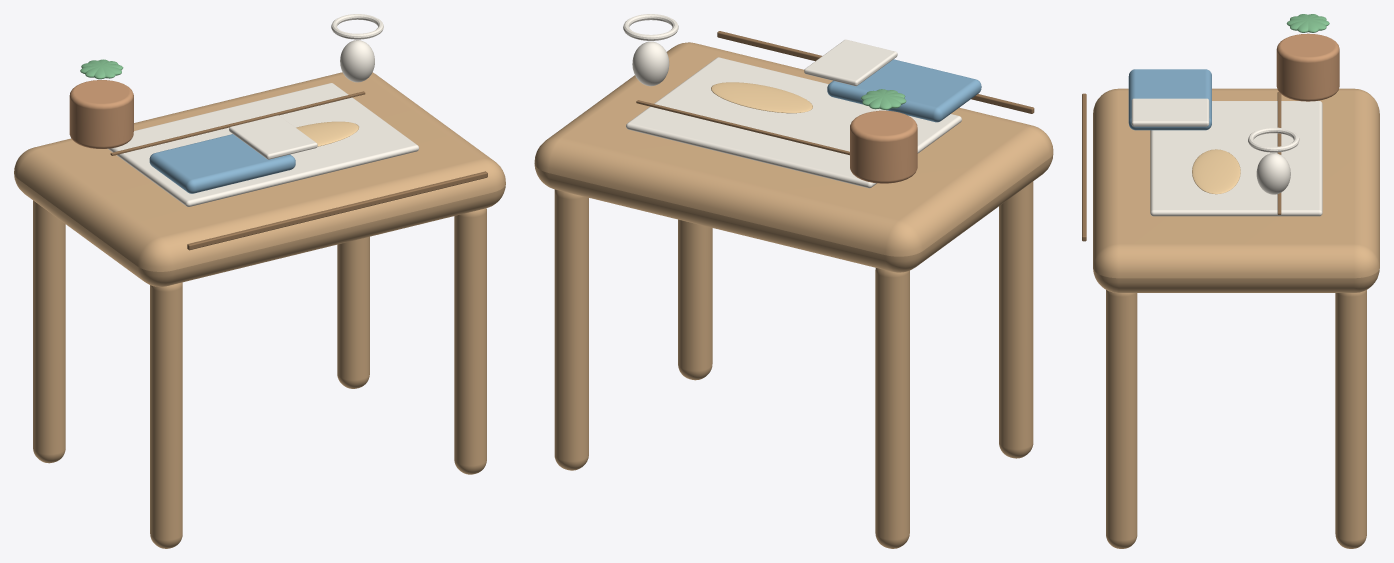
File: 星湾旅店圆角小桌_v373.fbx
3 views of the same model, side by side, from view 1: azimuth 30°, elevation 25°; view 2: azimuth 150°, elevation 25°; view 3: azimuth 270°, elevation 25° (orthographic). The views are drawn at different scales.
Parts seen in each view (by area): view 1: 旅店圆角小桌_v373_圆角木桌面, 旅店圆角小桌_v373_桌面奶油布垫, 旅店圆角小桌_v373_细圆木腿, 旅店圆角小桌_v373_细圆木腿.002, 旅店圆角小桌_v373_细圆木腿.001, 旅店圆角小桌_v373_海蓝旅行小册, 旅店圆角小桌_v373_细圆木腿.003, 旅店圆角小桌_v373_桌面陶土小花盆, 旅店圆角小桌_v373_旅行小册奶油页边, 旅店圆角小桌_v373_桌面前沿深木纹, 旅店圆角小桌_v373_白瓷杯身, 旅店圆角小桌_v373_桌面侧向木纹 (+2 smaller); view 2: 旅店圆角小桌_v373_圆角木桌面, 旅店圆角小桌_v373_桌面奶油布垫, 旅店圆角小桌_v373_细圆木腿.001, 旅店圆角小桌_v373_细圆木腿.003, 旅店圆角小桌_v373_细圆木腿, 旅店圆角小桌_v373_细圆木腿.002, 旅店圆角小桌_v373_海蓝旅行小册, 旅店圆角小桌_v373_桌面陶土小花盆, 旅店圆角小桌_v373_旅行小册奶油页边, 旅店圆角小桌_v373_桌面清漆柔亮, 旅店圆角小桌_v373_白瓷杯身, 旅店圆角小桌_v373_桌面前沿深木纹 (+2 smaller); view 3: 旅店圆角小桌_v373_圆角木桌面, 旅店圆角小桌_v373_桌面奶油布垫, 旅店圆角小桌_v373_细圆木腿.003, 旅店圆角小桌_v373_细圆木腿.002, 旅店圆角小桌_v373_桌面陶土小花盆, 旅店圆角小桌_v373_海蓝旅行小册, 旅店圆角小桌_v373_旅行小册奶油页边, 旅店圆角小桌_v373_桌面清漆柔亮, 旅店圆角小桌_v373_白瓷杯身, 旅店圆角小桌_v373_桌面前沿深木纹, 旅店圆角小桌_v373_白瓷杯口.
Boxes of the visible parts, <box> form: 旅店圆角小桌_v373_圆角木桌面: <box>14,72,505,286</box>; 旅店圆角小桌_v373_桌面奶油布垫: <box>108,83,419,206</box>; 旅店圆角小桌_v373_细圆木腿: <box>150,282,182,548</box>; 旅店圆角小桌_v373_细圆木腿.002: <box>454,208,486,474</box>; 旅店圆角小桌_v373_细圆木腿.001: <box>33,200,65,463</box>; 旅店圆角小桌_v373_海蓝旅行小册: <box>149,134,295,193</box>; 旅店圆角小桌_v373_细圆木腿.003: <box>337,236,369,388</box>; 旅店圆角小桌_v373_桌面陶土小花盆: <box>69,80,133,148</box>; 旅店圆角小桌_v373_旅行小册奶油页边: <box>229,115,317,159</box>; 旅店圆角小桌_v373_桌面前沿深木纹: <box>187,171,487,250</box>; 旅店圆角小桌_v373_白瓷杯身: <box>340,40,374,82</box>; 旅店圆角小桌_v373_桌面侧向木纹: <box>110,91,365,155</box>; 旅店圆角小桌_v373_圆角木桌面: <box>534,42,1053,272</box>; 旅店圆角小桌_v373_桌面奶油布垫: <box>626,57,961,188</box>; 旅店圆角小桌_v373_细圆木腿.001: <box>875,268,909,548</box>; 旅店圆角小桌_v373_细圆木腿.003: <box>554,189,588,470</box>; 旅店圆角小桌_v373_细圆木腿: <box>999,181,1033,458</box>; 旅店圆角小桌_v373_细圆木腿.002: <box>678,219,712,380</box>; 旅店圆角小桌_v373_海蓝旅行小册: <box>827,59,981,122</box>; 旅店圆角小桌_v373_桌面陶土小花盆: <box>850,110,917,183</box>; 旅店圆角小桌_v373_旅行小册奶油页边: <box>804,39,897,86</box>; 旅店圆角小桌_v373_桌面清漆柔亮: <box>711,82,812,113</box>; 旅店圆角小桌_v373_白瓷杯身: <box>632,41,669,86</box>; 旅店圆角小桌_v373_桌面前沿深木纹: <box>717,31,1034,113</box>; 旅店圆角小桌_v373_圆角木桌面: <box>1093,88,1379,292</box>; 旅店圆角小桌_v373_桌面奶油布垫: <box>1150,101,1322,216</box>; 旅店圆角小桌_v373_细圆木腿.003: <box>1335,290,1366,548</box>; 旅店圆角小桌_v373_细圆木腿.002: <box>1106,290,1137,548</box>; 旅店圆角小桌_v373_桌面陶土小花盆: <box>1276,33,1339,101</box>; 旅店圆角小桌_v373_海蓝旅行小册: <box>1128,69,1211,130</box>; 旅店圆角小桌_v373_旅行小册奶油页边: <box>1131,98,1209,126</box>; 旅店圆角小桌_v373_桌面清漆柔亮: <box>1192,149,1240,194</box>; 旅店圆角小桌_v373_白瓷杯身: <box>1256,153,1290,194</box>; 旅店圆角小桌_v373_桌面前沿深木纹: <box>1082,93,1086,241</box>; 旅店圆角小桌_v373_白瓷杯口: <box>1248,127,1299,152</box>.
Size of the model in its own units: 72 by 76.2 by 51.9.
